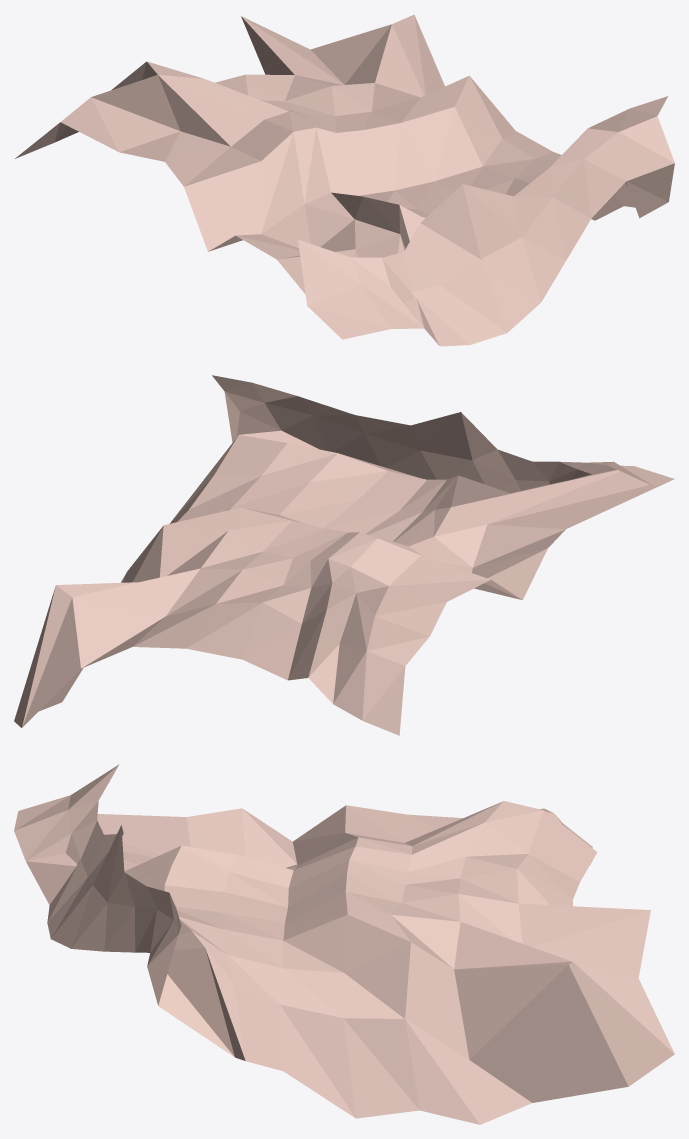
The model's file is MessySheet.fbx.
3 views of the same model, one above another, from view 1: azimuth 30°, elevation 25°; view 2: azimuth 150°, elevation 25°; view 3: azimuth 270°, elevation 25° (orthographic). The views are drawn at different scales.
Parts seen in each view (by area): view 1: MessySheet; view 2: MessySheet; view 3: MessySheet.
Boxes of the visible parts, <box> form: MessySheet: <box>15,14,674,346</box>; MessySheet: <box>14,375,674,735</box>; MessySheet: <box>14,764,674,1124</box>.
Bounding box in the file's own units: 2.61 × 1.2 × 3.62.
